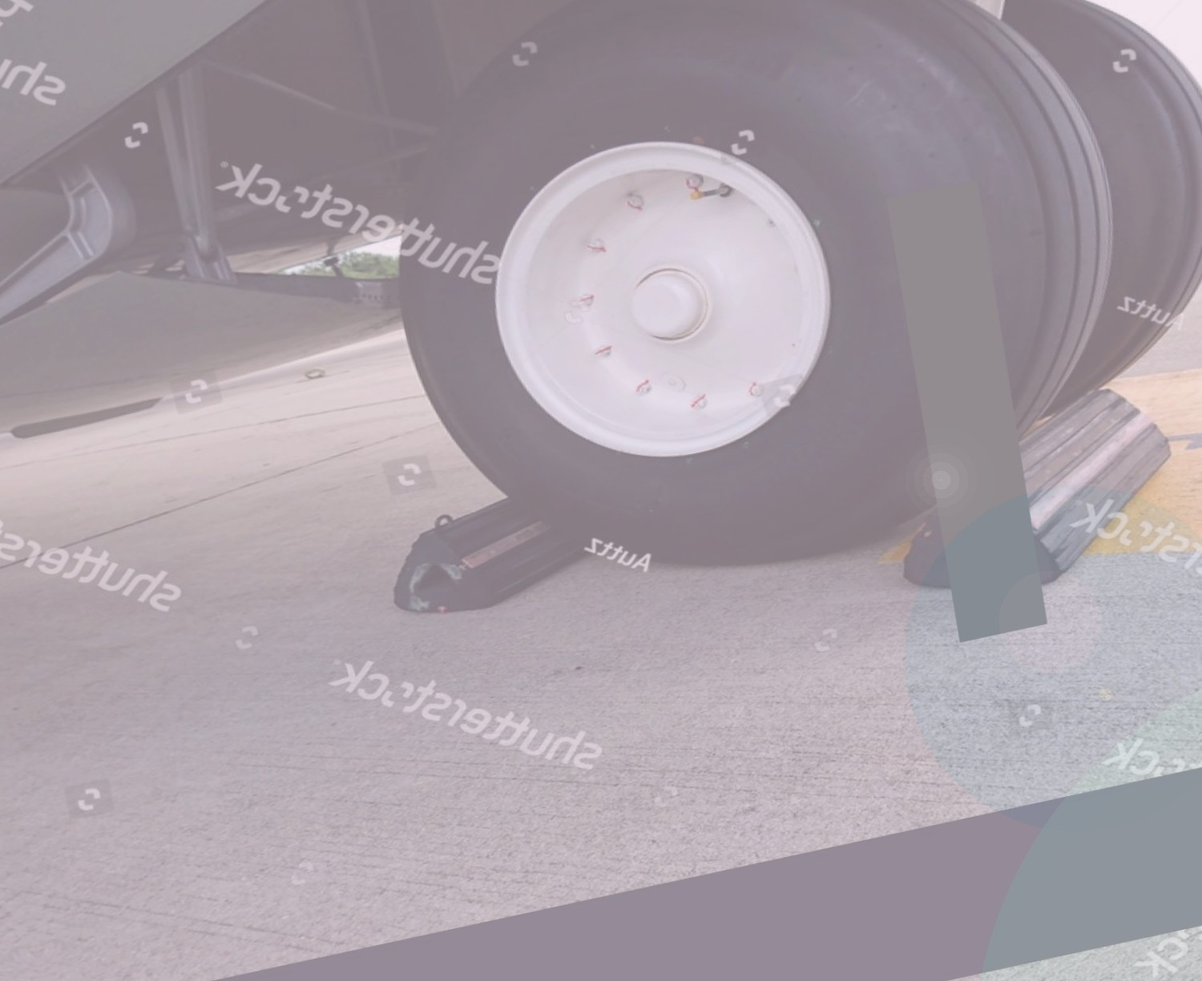chock: (868, 373, 1202, 614), (368, 466, 616, 630)
wheel: (360, 0, 1173, 625), (935, 0, 1202, 413)
